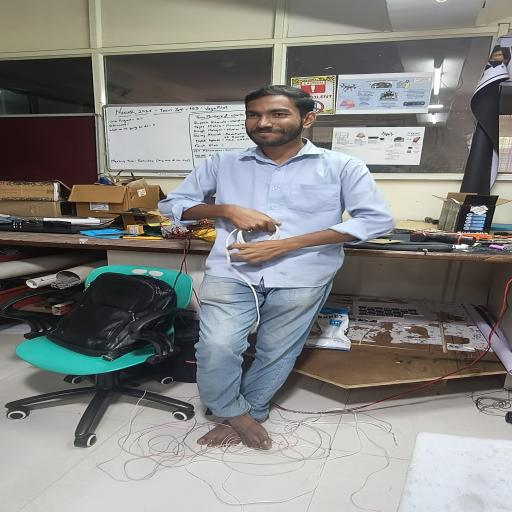survivor: (157, 85, 395, 450)
